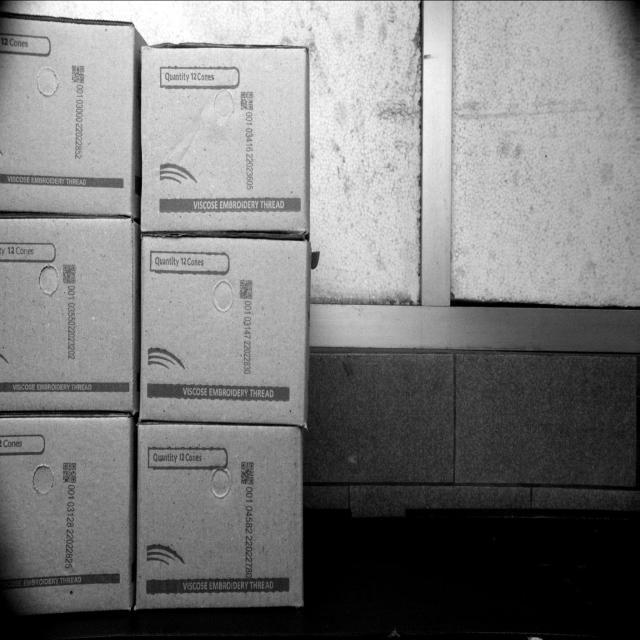box: (139, 238, 309, 422), (142, 48, 310, 228), (139, 426, 305, 606), (0, 21, 138, 211), (0, 414, 133, 610), (0, 218, 133, 406)
